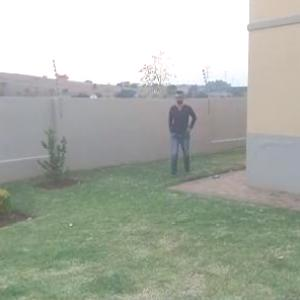follow: (167, 88, 199, 180)
